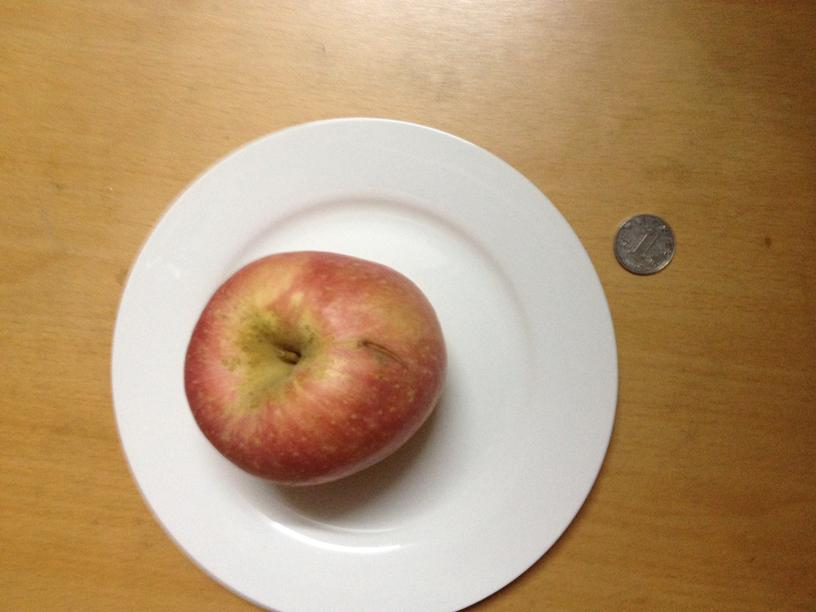apple: (180, 250, 446, 488)
coin: (613, 212, 676, 276)
